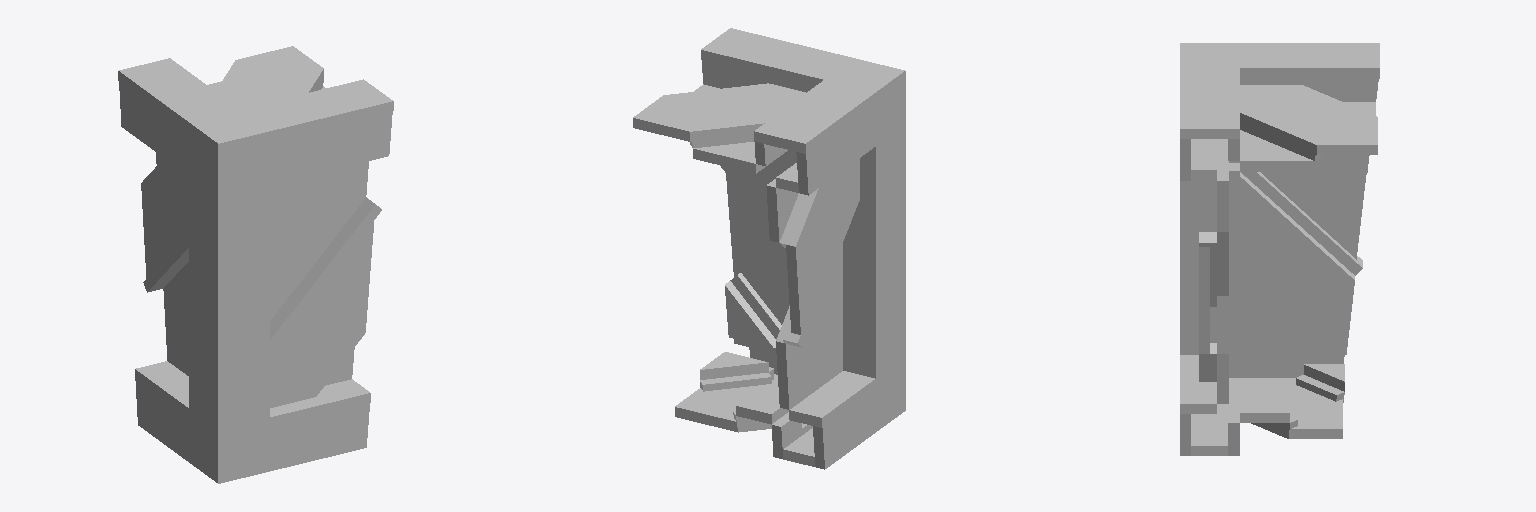
The model's file is break_pieces.obj.
The picture shows the model from 3 angles: view 1: azimuth 30°, elevation 25°; view 2: azimuth 150°, elevation 25°; view 3: azimuth 270°, elevation 25°; orthographic projection.
Parts seen in each view (by area): view 1: crate.003; view 2: crate.003; view 3: crate.003.
Part boxes in pixels (x1,y1,x2,y2): crate.003: (118, 46, 393, 483); crate.003: (633, 28, 905, 469); crate.003: (1180, 43, 1379, 455).
Size of the model in its own units: 0.2694 by 0.5 by 0.2666.